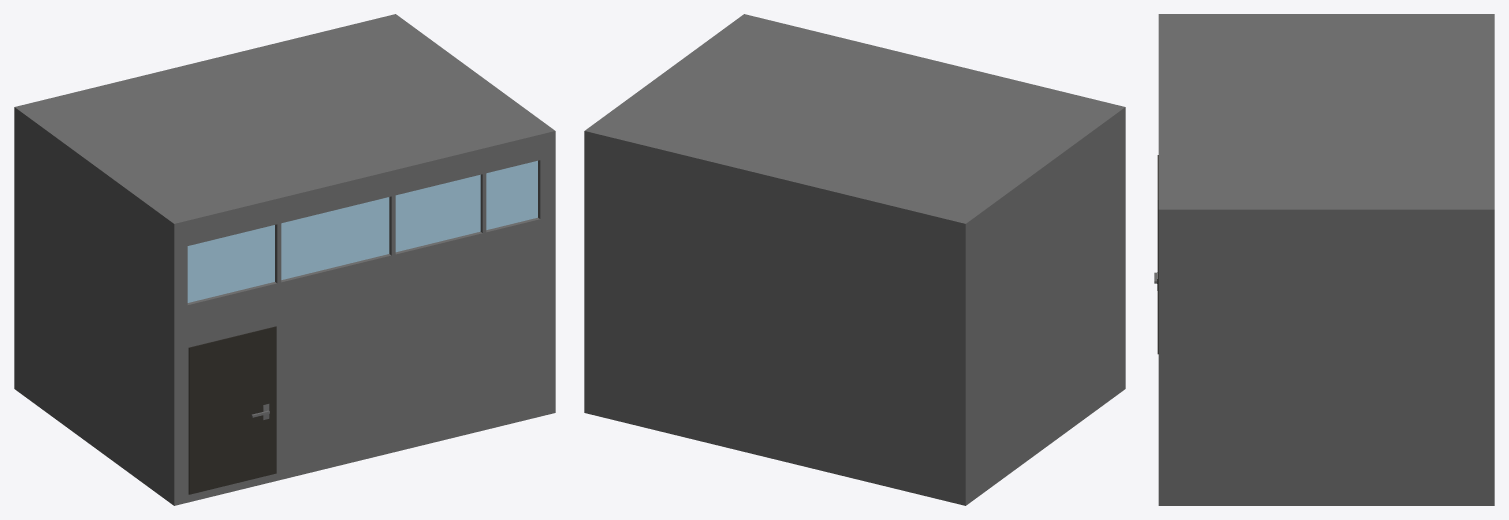
Rendered from Office.fbx.
The picture shows the model from 3 angles, left to right: view 1: azimuth 30°, elevation 25°; view 2: azimuth 150°, elevation 25°; view 3: azimuth 270°, elevation 25°; orthographic projection. The views are drawn at different scales.
Parts seen in each view (by area): view 1: Cube; view 2: Cube; view 3: Cube.
Boxes of the visible parts, left/top/right/bottom form: Cube: left=14, top=14, right=555, bottom=505; Cube: left=584, top=14, right=1125, bottom=505; Cube: left=1154, top=14, right=1494, bottom=505.
Bounding box in the file's own units: 1707 × 1206 × 1254.
